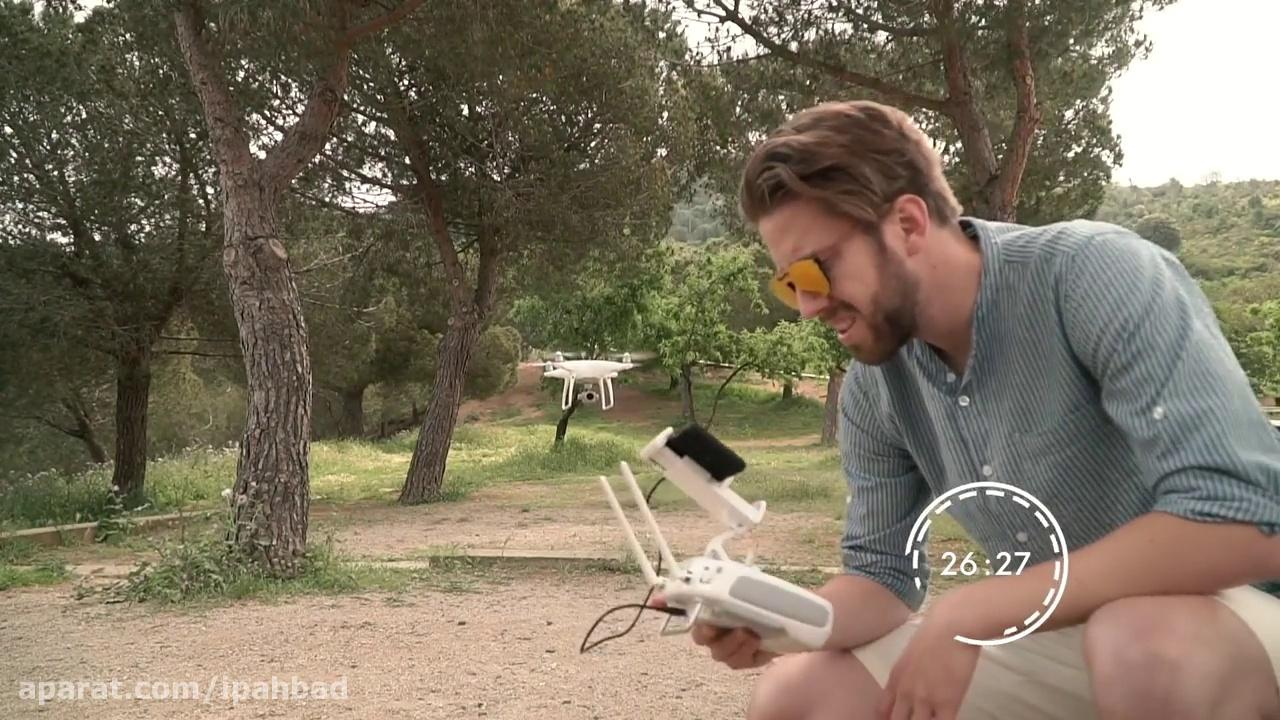drone: (517, 345, 657, 414)
